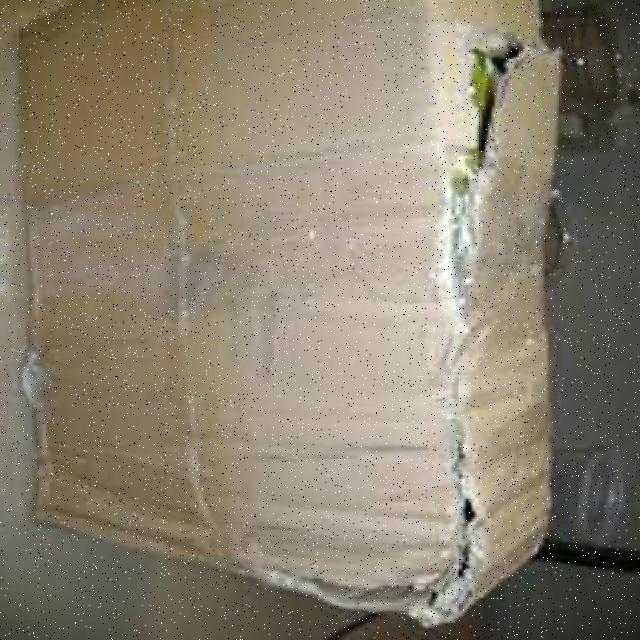defect: (6, 5, 562, 629)
